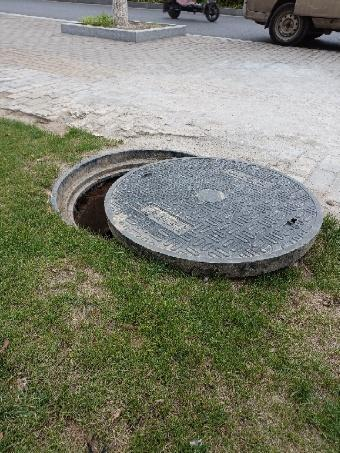wellcover: (46, 136, 335, 283)
